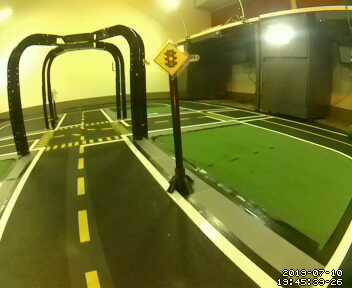Traffic light sign: (154, 42, 188, 79)
